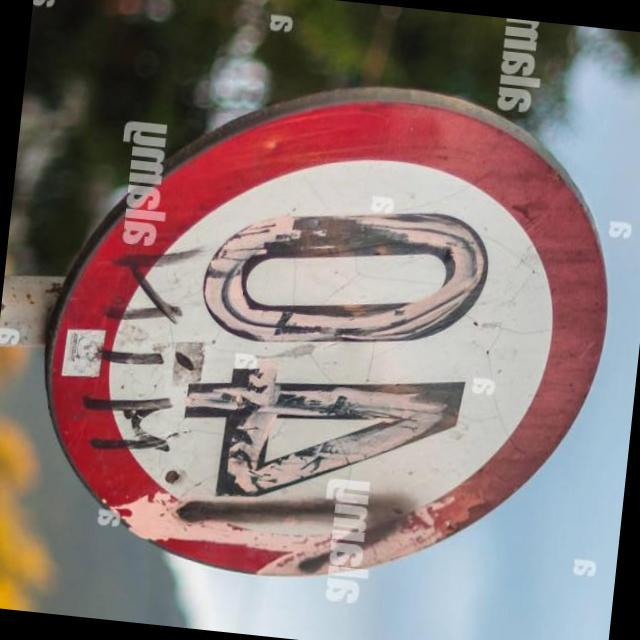obstructed_road_sign: (48, 89, 606, 575)
